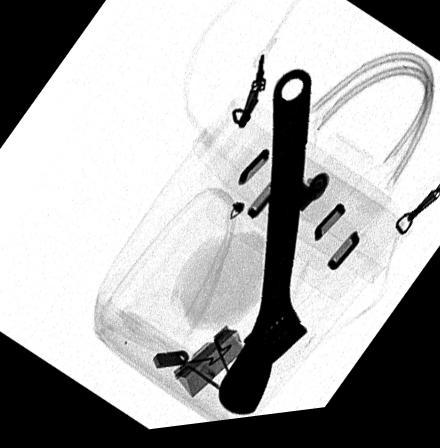Wrench: (213, 74, 312, 422)
